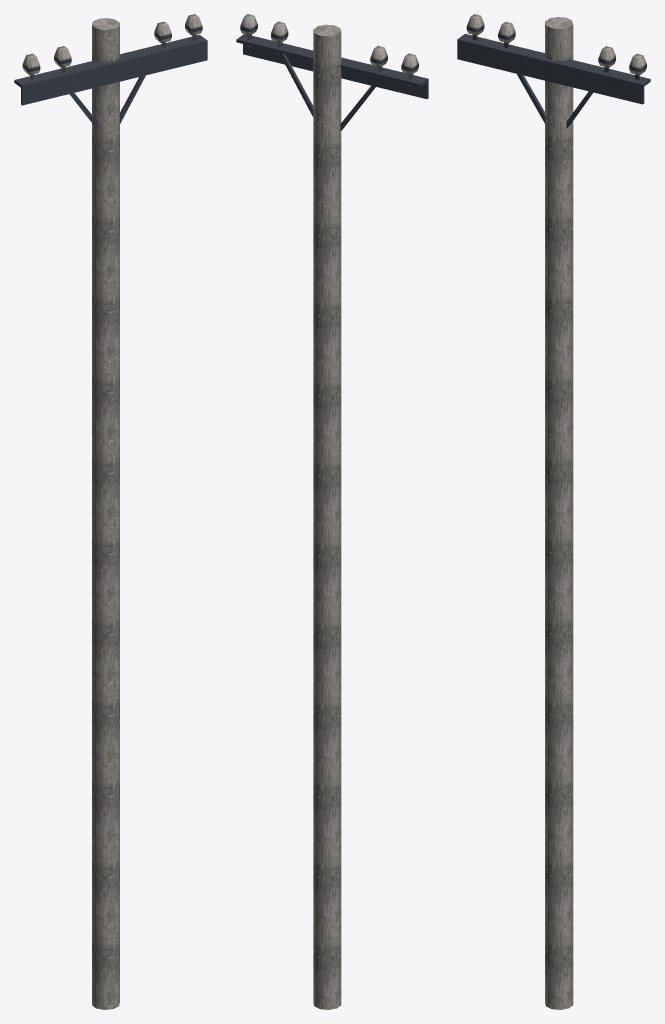
File: ring.fbx
The picture shows the model from 3 angles, left to right: view 1: azimuth 30°, elevation 25°; view 2: azimuth 150°, elevation 25°; view 3: azimuth 330°, elevation 25°; orthographic projection.
Visible parts, largest first — view 1: EL_SLOUP1, EL_PROFIL1, Component_1_1; view 2: EL_SLOUP1, EL_PROFIL1, Component_1_1; view 3: EL_SLOUP1, EL_PROFIL1, Component_1_1.
Boxes of the visible parts, left/top/right/bottom form: EL_SLOUP1: left=92, top=18, right=119, bottom=1009; EL_PROFIL1: left=14, top=35, right=207, bottom=105; Component_1_1: left=69, top=75, right=145, bottom=129; EL_SLOUP1: left=313, top=24, right=341, bottom=1009; EL_PROFIL1: left=236, top=34, right=428, bottom=98; Component_1_1: left=279, top=52, right=382, bottom=130; EL_SLOUP1: left=545, top=17, right=573, bottom=1009; EL_PROFIL1: left=457, top=33, right=650, bottom=104; Component_1_1: left=517, top=74, right=593, bottom=128.
Size of the model in its own units: 1.83 by 9.23 by 0.2774.
